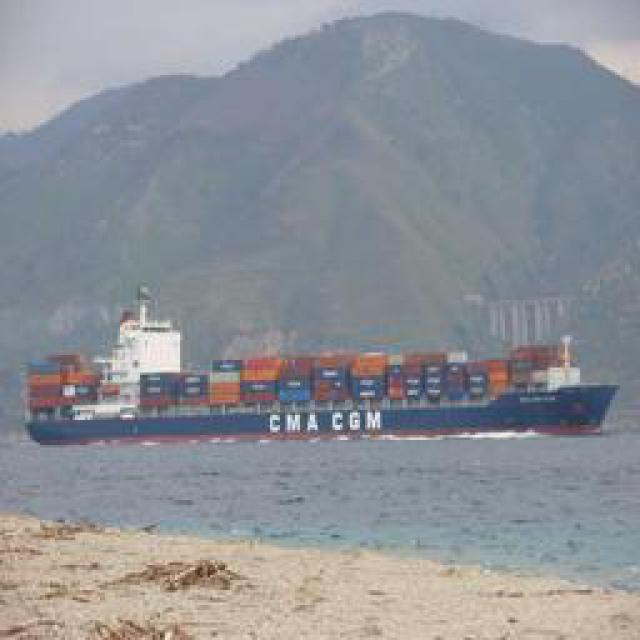Ship: (15, 344, 628, 439)
